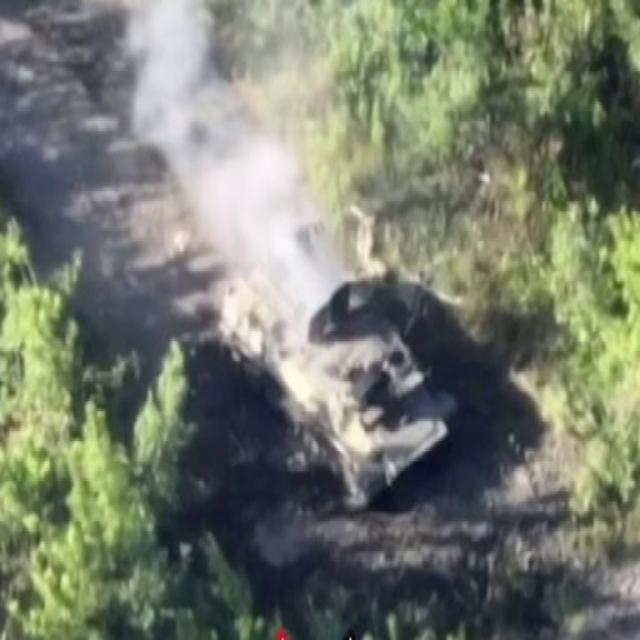APC-IFV: (218, 222, 457, 518)
